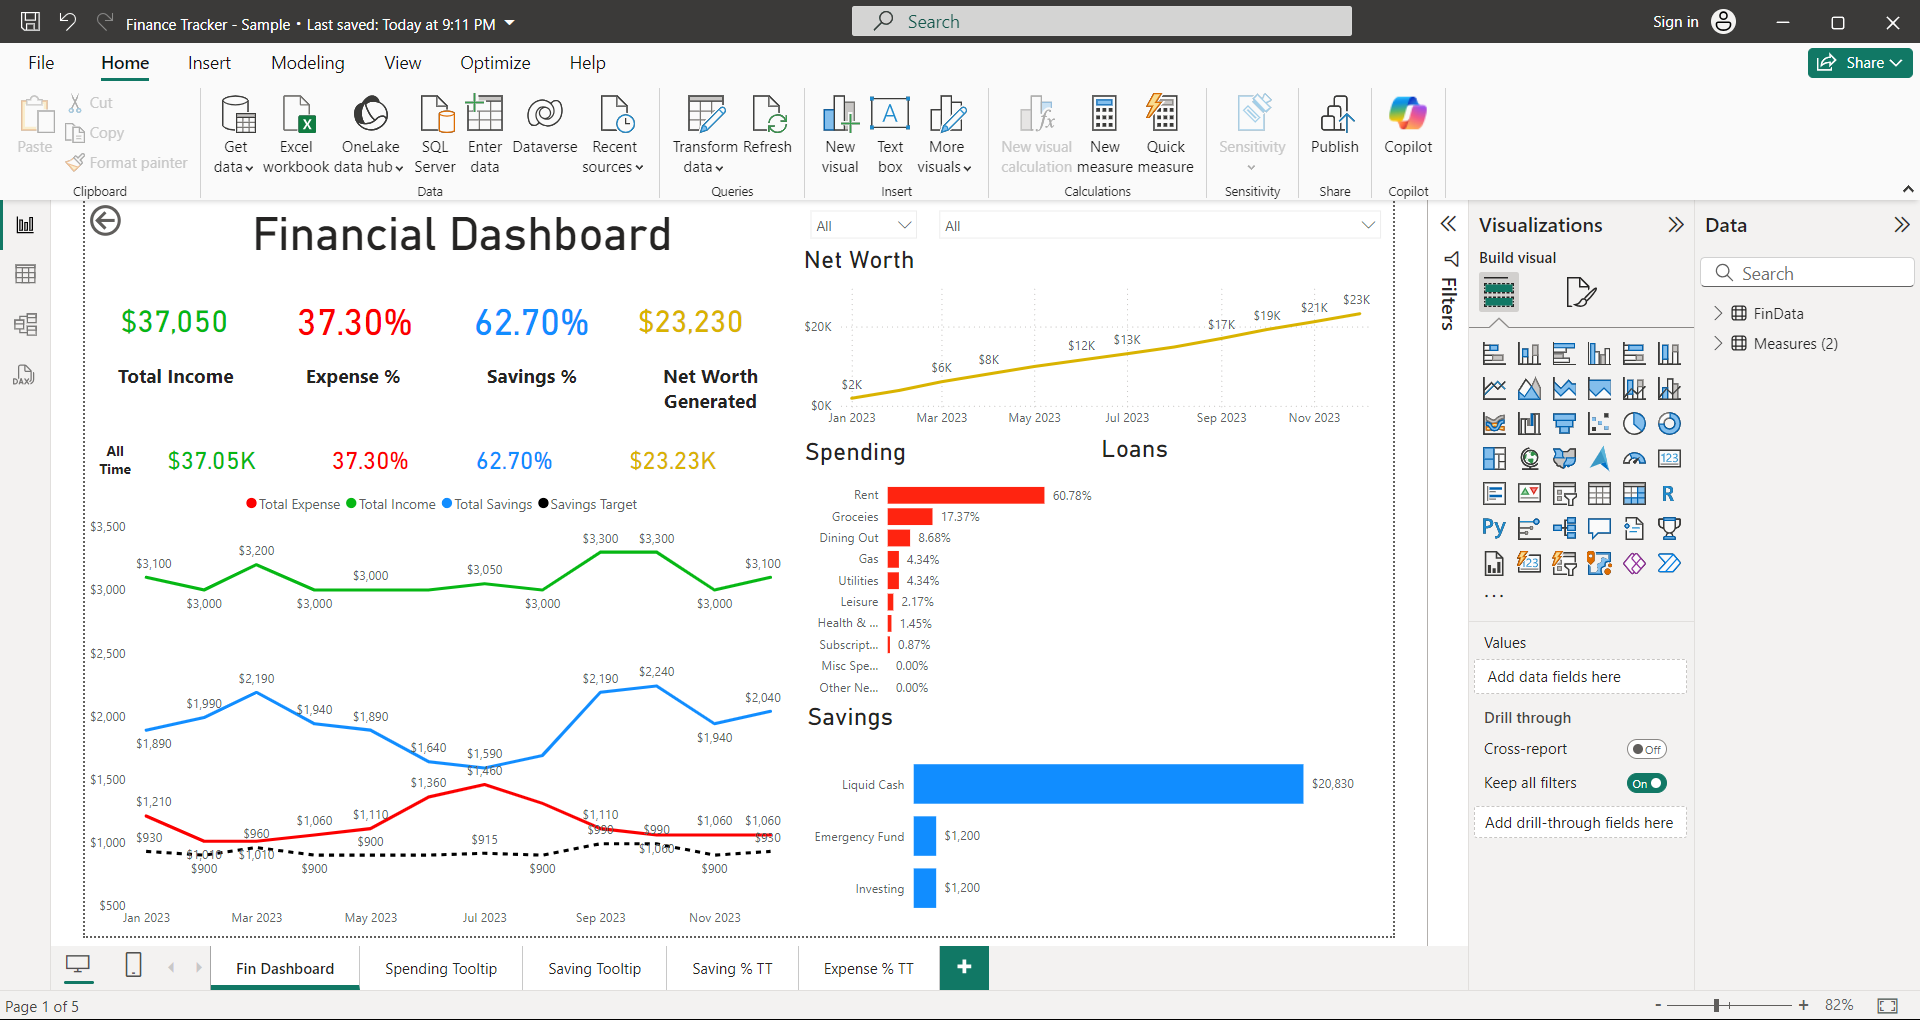

This screenshot's page, from the dashboard's own definition file:
{"tool":"powerbi","page":{"name":"Fin Dashboard","canvas":[1280,720],"ordinal":0},"visuals":[{"type":"card","fields":{"Values":["Measures (2).Total Income"]},"box":[0,79.2,174.9,74.6],"z":0},{"type":"card","fields":{"Values":["Measures (2).Expense %"]},"box":[176,80,176,74],"z":1000},{"type":"card","fields":{"Values":["Measures (2).Savings %"]},"box":[350,80,174,74],"z":2000},{"type":"card","fields":{"Values":["Measures (2).Total Savings"]},"box":[505,80,175,73.8],"z":3000},{"type":"textbox","box":[20.8,153.8,135.7,35.5],"z":4000},{"type":"textbox","box":[194.4,153.8,135.7,35.5],"z":5000},{"type":"textbox","box":[369.3,153.8,135.7,35.5],"z":6000},{"type":"textbox","box":[544.2,153.8,135.7,62.4],"z":7000},{"type":"slicer","fields":{"Values":["FinData.Date.Variation.Date Hierarchy.Year"]},"box":[699.5,0,124.7,55],"z":8000},{"type":"slicer","fields":{"Values":["FinData.Date.Variation.Date Hierarchy.Month"]},"box":[791.2,97.8,211.6,55],"z":9000},{"type":"card","fields":{"Values":["Measures (2).Total Income"]},"box":[73.4,216.2,101.5,74.6],"z":10000},{"type":"card","fields":{"Values":["Measures (2).Expense %"]},"box":[228.7,216.2,101.5,74.6],"z":11000},{"type":"card","fields":{"Values":["Measures (2).Savings %"]},"box":[369.3,216.2,101.5,74.6],"z":12000},{"type":"card","fields":{"Values":["Measures (2).Total Savings"]},"box":[524.6,216.2,101.5,74.6],"z":13000},{"type":"textbox","box":[0,230.9,58.7,45.2],"z":14000},{"type":"card","fields":{"Values":["Measures (2).Title"]},"box":[150.4,0,437.8,55],"z":15000},{"type":"actionButton","box":[0,0,100,40],"z":16000},{"type":"clusteredBarChart","title":"Spending","fields":{"Category":["FinData.Component"],"Y":["Measures (2).Total Expense"]},"box":[699.5,232.3,291,266.6],"z":17000},{"type":"lineChart","fields":{"Y":["Measures (2).Total Expense","Measures (2).Total Income","Measures (2).Total Savings","Measures (2).Savings Target"],"Category":["FinData.Date"]},"box":[0,276.4,701.9,443.9],"z":18000},{"type":"lineChart","title":"Net Worth","fields":{"Y":["Measures (2).Cumulative Net Worth"],"Category":["FinData.Date"]},"box":[698.8,43.8,580,187.5],"z":19000},{"type":"clusteredBarChart","title":"Savings","fields":{"Category":["FinData.Component"],"Y":["Measures (2).Total Savings"]},"box":[701.9,491.6,578.4,228.7],"z":20000},{"type":"clusteredBarChart","title":"Loans","fields":{"Y":["Measures (2).Total Loans"],"Category":["FinData.Component"]},"box":[989.3,228.7,288.6,270.2],"z":21000},{"type":"slicer","fields":{"Values":["FinData.Date"]},"box":[825,0,452.5,40],"z":22000}]}

Visuals, with their boxes on the page's 1280x720 design canvas (x1, y1, x2, y2). These are canvas units, not pixel positions in the 1920x1020 screenshot, which may show the page scaled, cropped or inside an application window:
card - Measures (2).Total Income: 0, 79, 175, 154
card - Measures (2).Expense %: 176, 80, 352, 154
card - Measures (2).Savings %: 350, 80, 524, 154
card - Measures (2).Total Savings: 505, 80, 680, 154
textbox: 21, 154, 156, 189
textbox: 194, 154, 330, 189
textbox: 369, 154, 505, 189
textbox: 544, 154, 680, 216
slicer - FinData.Date.Variation.Date Hierarchy.Year: 700, 0, 824, 55
slicer - FinData.Date.Variation.Date Hierarchy.Month: 791, 98, 1003, 153
card - Measures (2).Total Income: 73, 216, 175, 291
card - Measures (2).Expense %: 229, 216, 330, 291
card - Measures (2).Savings %: 369, 216, 471, 291
card - Measures (2).Total Savings: 525, 216, 626, 291
textbox: 0, 231, 59, 276
card - Measures (2).Title: 150, 0, 588, 55
actionButton: 0, 0, 100, 40
"Spending" clusteredBarChart: 700, 232, 990, 499
lineChart - Measures (2).Total Expense x Measures (2).Total Income: 0, 276, 702, 720
"Net Worth" lineChart: 699, 44, 1279, 231
"Savings" clusteredBarChart: 702, 492, 1280, 720
"Loans" clusteredBarChart: 989, 229, 1278, 499
slicer - FinData.Date: 825, 0, 1278, 40
